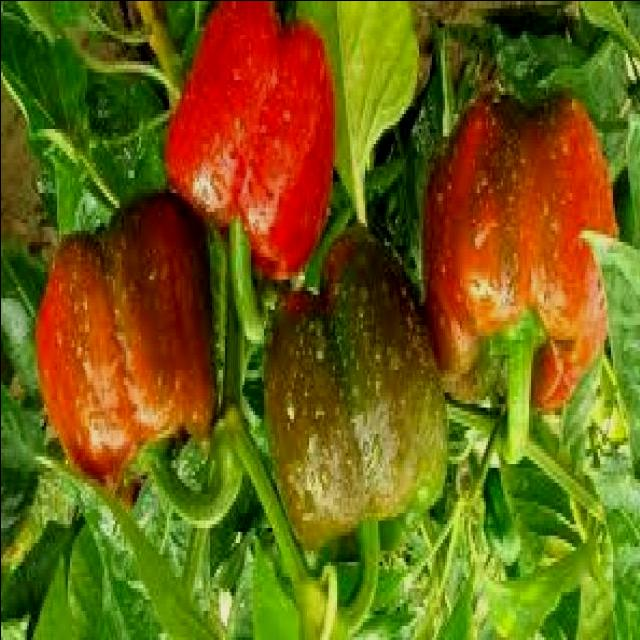bell_pepper: (256, 229, 459, 555)
